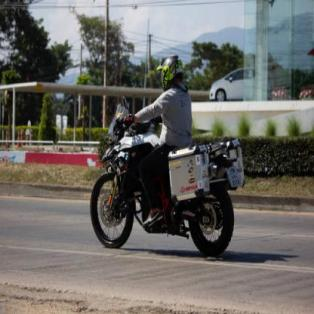Motocicleta: (90, 112, 241, 258)
